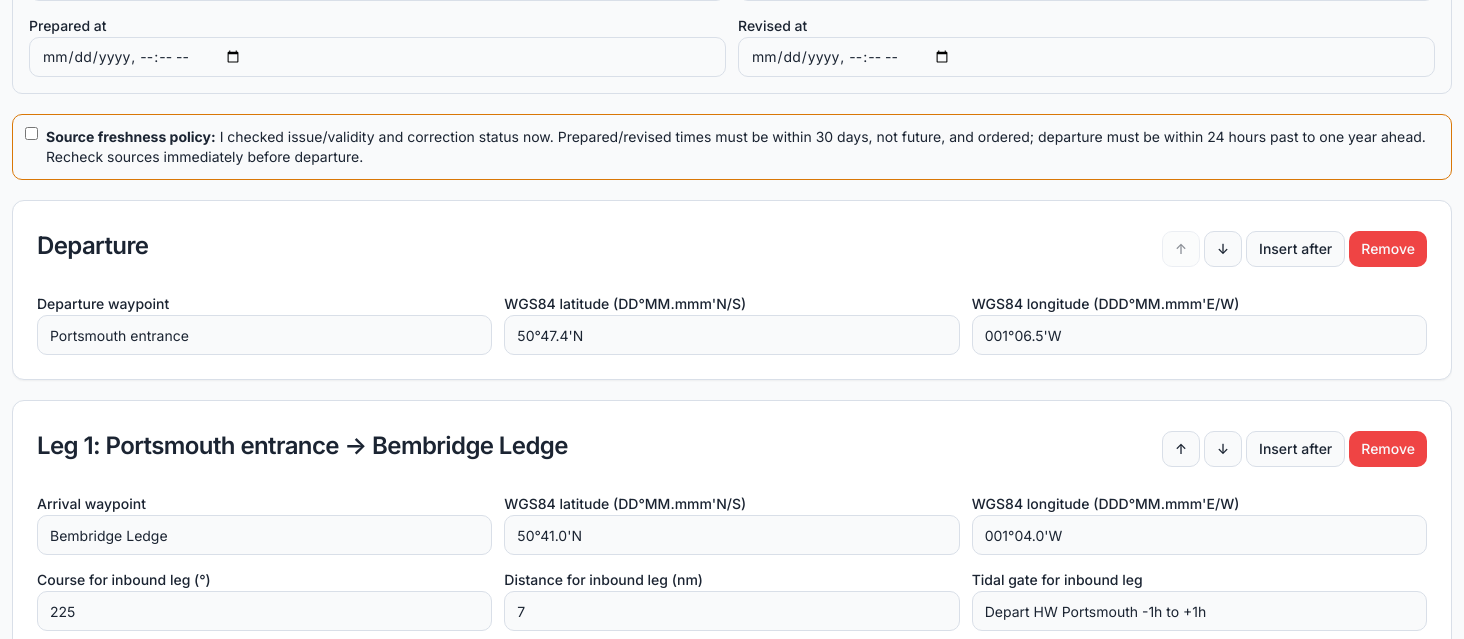
passage plan flow › links malformed coordinates to an error and focuses the first invalid field without clearing data
(page scrolled)
Replace the text in the 1st field labelled "WGS84 latitude (DD°MM.mmm'N/S)" with "91°00.0'N" at x=732, y=335, box [504, 315, 960, 355]
(page scrolled)
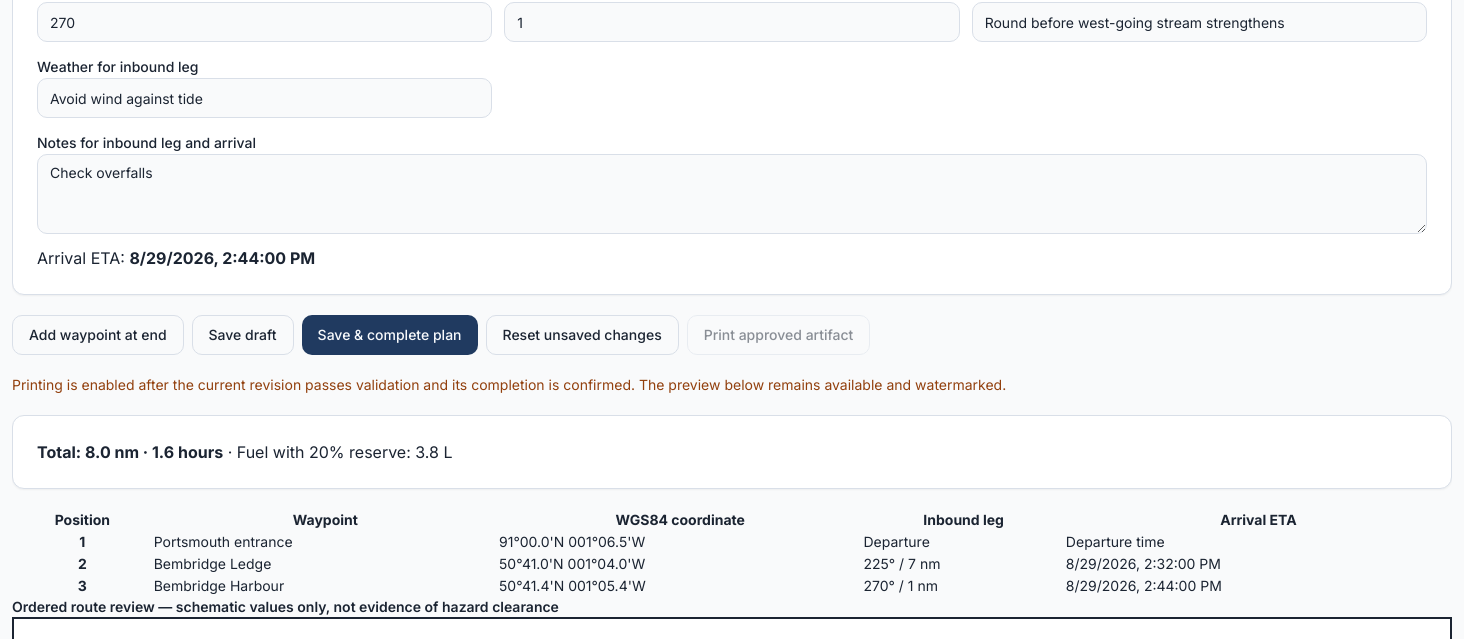
Click the button "Save & complete plan" at x=390, y=335, box [302, 315, 478, 355]
(page scrolled)
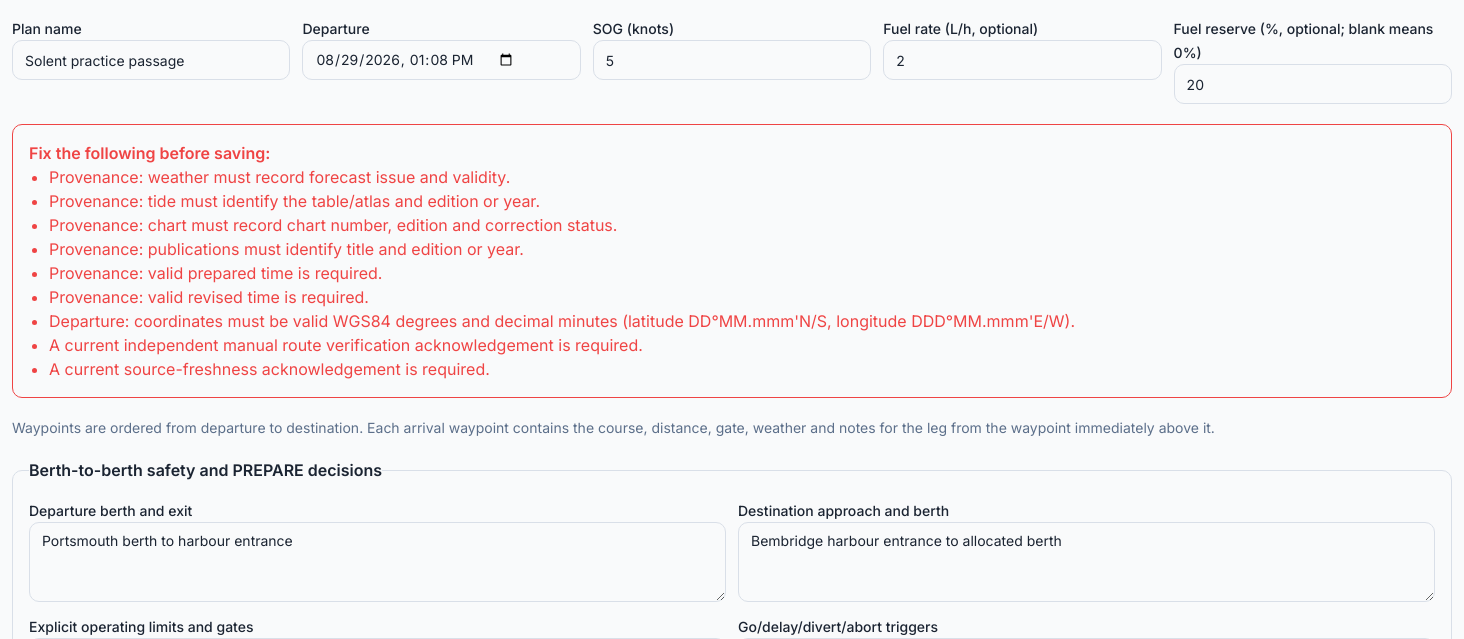
Expected: the message shows "valid WGS84 degrees and decimal minutes", [49, 311, 1075, 331]
